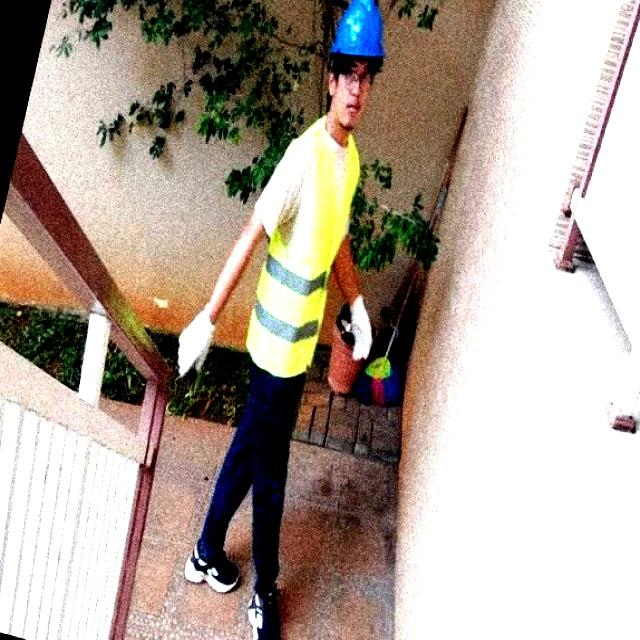Capacete: (330, 0, 384, 58)
Colete: (246, 116, 359, 376)
